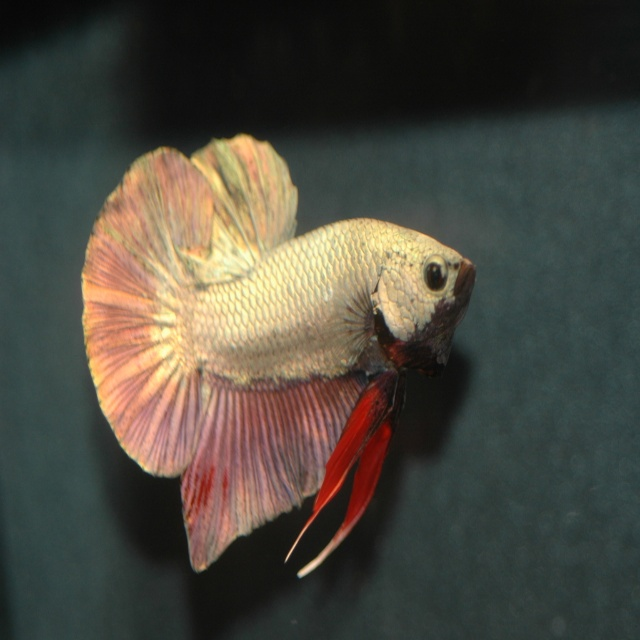Fish: (49, 122, 458, 591)
